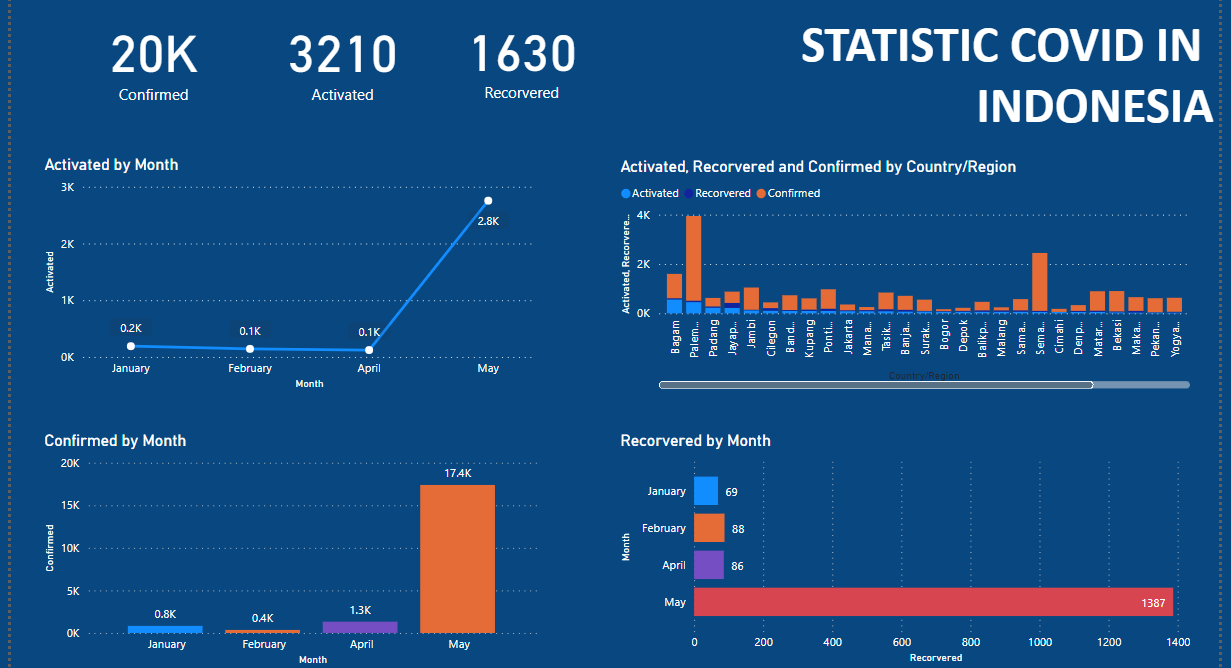

Layout of this report page (visuals, bound fields, positions):
{"tool":"powerbi","page":{"name":"Page 1","canvas":[1280,720],"ordinal":0},"visuals":[{"type":"lineChart","fields":{"Category":["Sheet1.Date.Variation.Date Hierarchy.Month"],"Y":["Sum(Sheet1.Activated)"]},"box":[30.2,174.8,530.9,252.7],"z":0},{"type":"columnChart","fields":{"Category":["Sheet1.Date.Variation.Date Hierarchy.Month"],"Y":["Sum(Sheet1.Confirmed)"]},"box":[30.2,467.3,532.5,252.7],"z":1000},{"type":"barChart","fields":{"Category":["Sheet1.Date.Variation.Date Hierarchy.Month"],"Y":["Sum(Sheet1.Recorvered)"]},"box":[640.5,467.3,613.5,251.1],"z":2000},{"type":"card","fields":{"Values":["Sum(Sheet1.Confirmed)"]},"box":[30.2,19.1,241.6,104.9],"z":3000},{"type":"card","fields":{"Values":["Sum(Sheet1.Activated)"]},"box":[217.7,19.1,267,104.9],"z":4000},{"type":"columnChart","fields":{"Category":["Sheet1.Country/Region"],"Y":["Sum(Sheet1.Activated)","Sum(Sheet1.Recorvered)","Sum(Sheet1.Confirmed)"]},"box":[640.5,176.4,613.5,251.1],"z":5000},{"type":"card","fields":{"Values":["Sum(Sheet1.Recorvered)"]},"box":[391,19.1,300.4,101.7],"z":6001},{"type":"textbox","box":[715.2,19.1,564.2,149.4],"z":6002}]}

Visuals, with their boxes on the page's 1280x720 design canvas (x1, y1, x2, y2). These are canvas units, not pixel positions in the 1231x668 screenshot, which may show the page scaled, cropped or inside an application window:
lineChart - Sheet1.Date.Variation.Date Hierarchy.Month x Sum(Sheet1.Activated): [30,175,561,428]
columnChart - Sheet1.Date.Variation.Date Hierarchy.Month x Sum(Sheet1.Confirmed): [30,467,563,720]
barChart - Sheet1.Date.Variation.Date Hierarchy.Month x Sum(Sheet1.Recorvered): [640,467,1254,718]
card - Sum(Sheet1.Confirmed): [30,19,272,124]
card - Sum(Sheet1.Activated): [218,19,485,124]
columnChart - Sheet1.Country/Region x Sum(Sheet1.Activated): [640,176,1254,428]
card - Sum(Sheet1.Recorvered): [391,19,691,121]
textbox: [715,19,1279,168]
